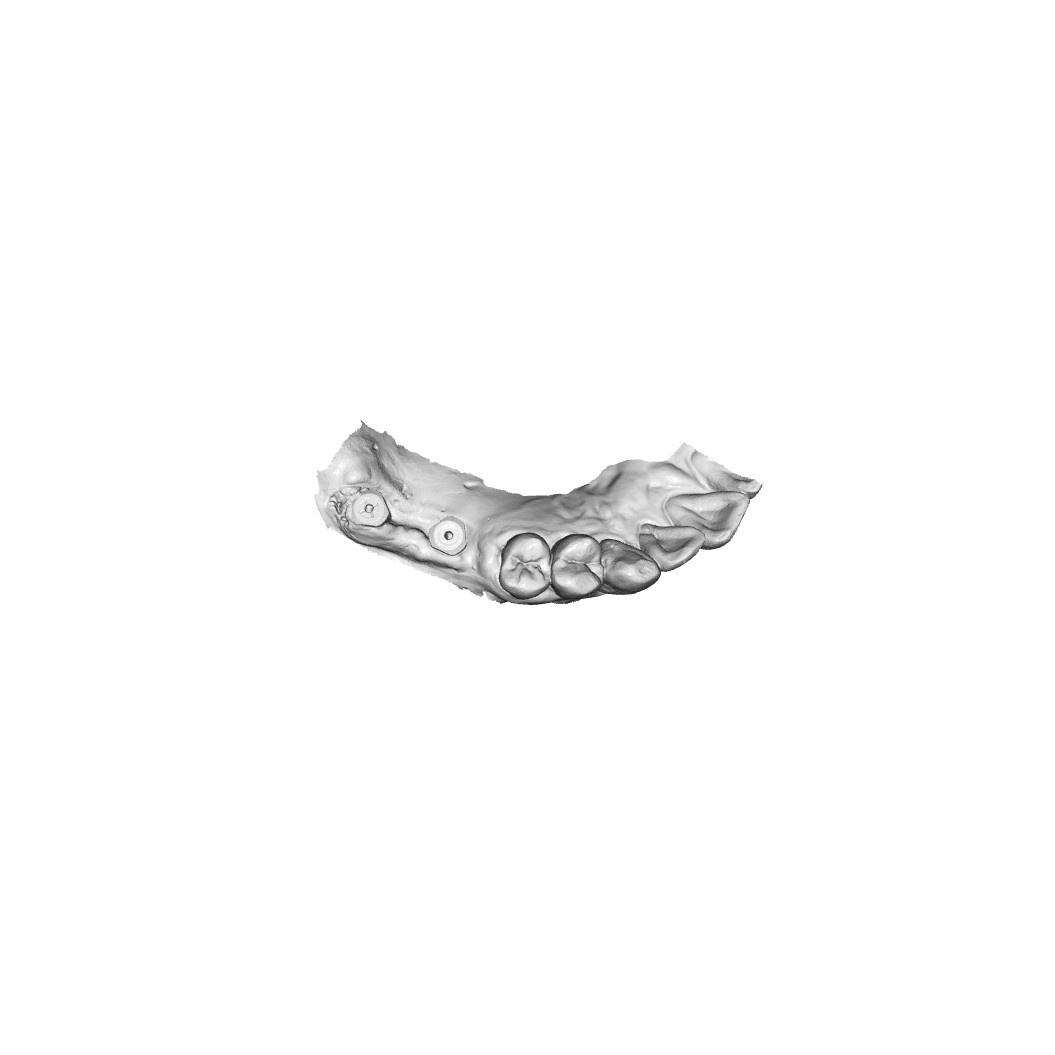canine: (603, 538, 658, 594)
implant: (428, 515, 469, 559)
implant_plus: (349, 491, 388, 532)
incisor: (665, 490, 752, 545), (643, 521, 697, 568)
premolar: (549, 532, 604, 602), (500, 533, 551, 597)
